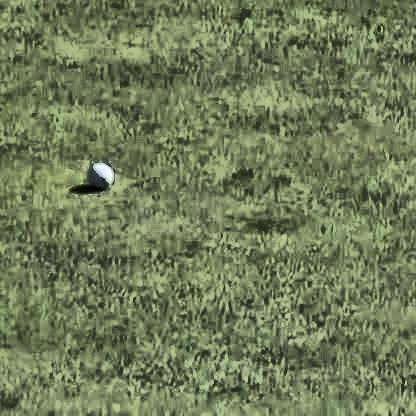golfball: (86, 156, 111, 186)
